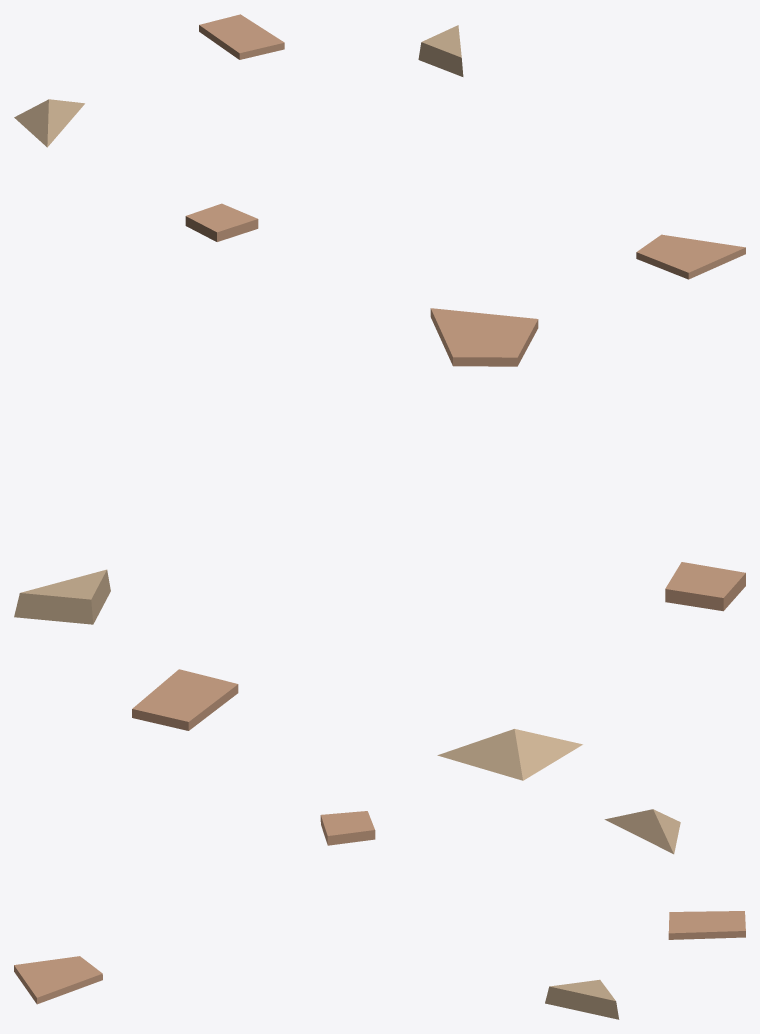
File: Rocks_Flat_s_04.fbx
The picture shows the model from 3 angles, top to bottom: view 1: azimuth 30°, elevation 25°; view 2: azimuth 150°, elevation 25°; view 3: azimuth 270°, elevation 25°; orthographic projection. The views are drawn at different scales.
Parts seen in each view (by area): view 1: Rocks_Flat_s_04; view 2: Rocks_Flat_s_04; view 3: Rocks_Flat_s_04.
Part boxes in pixels (<box>): Rocks_Flat_s_04: <box>14,14,745,279</box>; Rocks_Flat_s_04: <box>14,308,745,780</box>; Rocks_Flat_s_04: <box>14,809,745,1019</box>.
Bounding box in the file's own units: 63.23 × 3.59 × 98.22.
